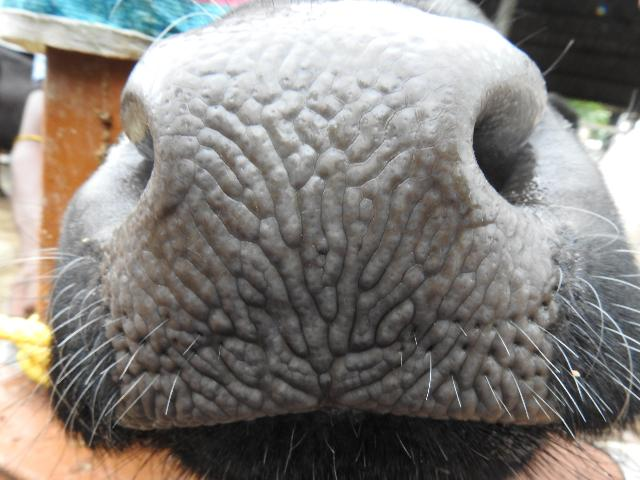Muzzle: (167, 44, 479, 412)
